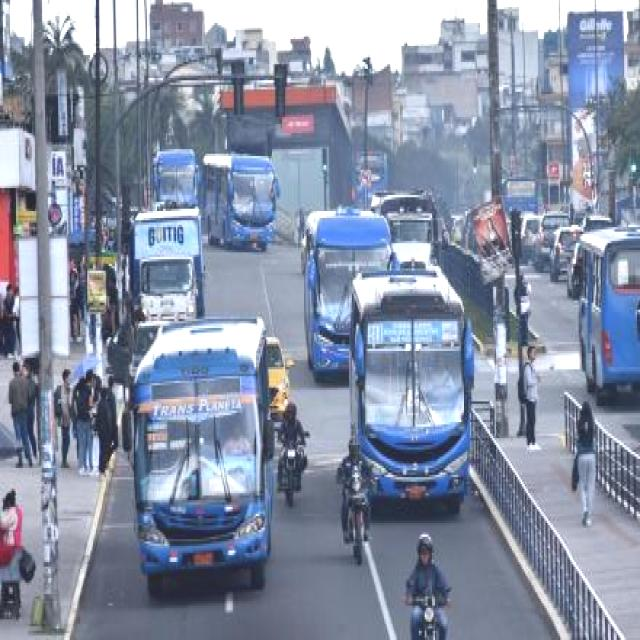BUS: (129, 326, 273, 600), (356, 291, 474, 517), (305, 212, 394, 380), (576, 232, 638, 406), (184, 155, 276, 251)
MOTORCYCLE: (276, 436, 306, 513), (413, 598, 443, 640)
